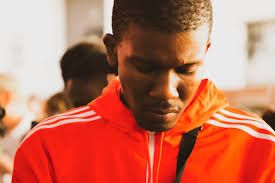no-mask: (95, 21, 222, 135)
